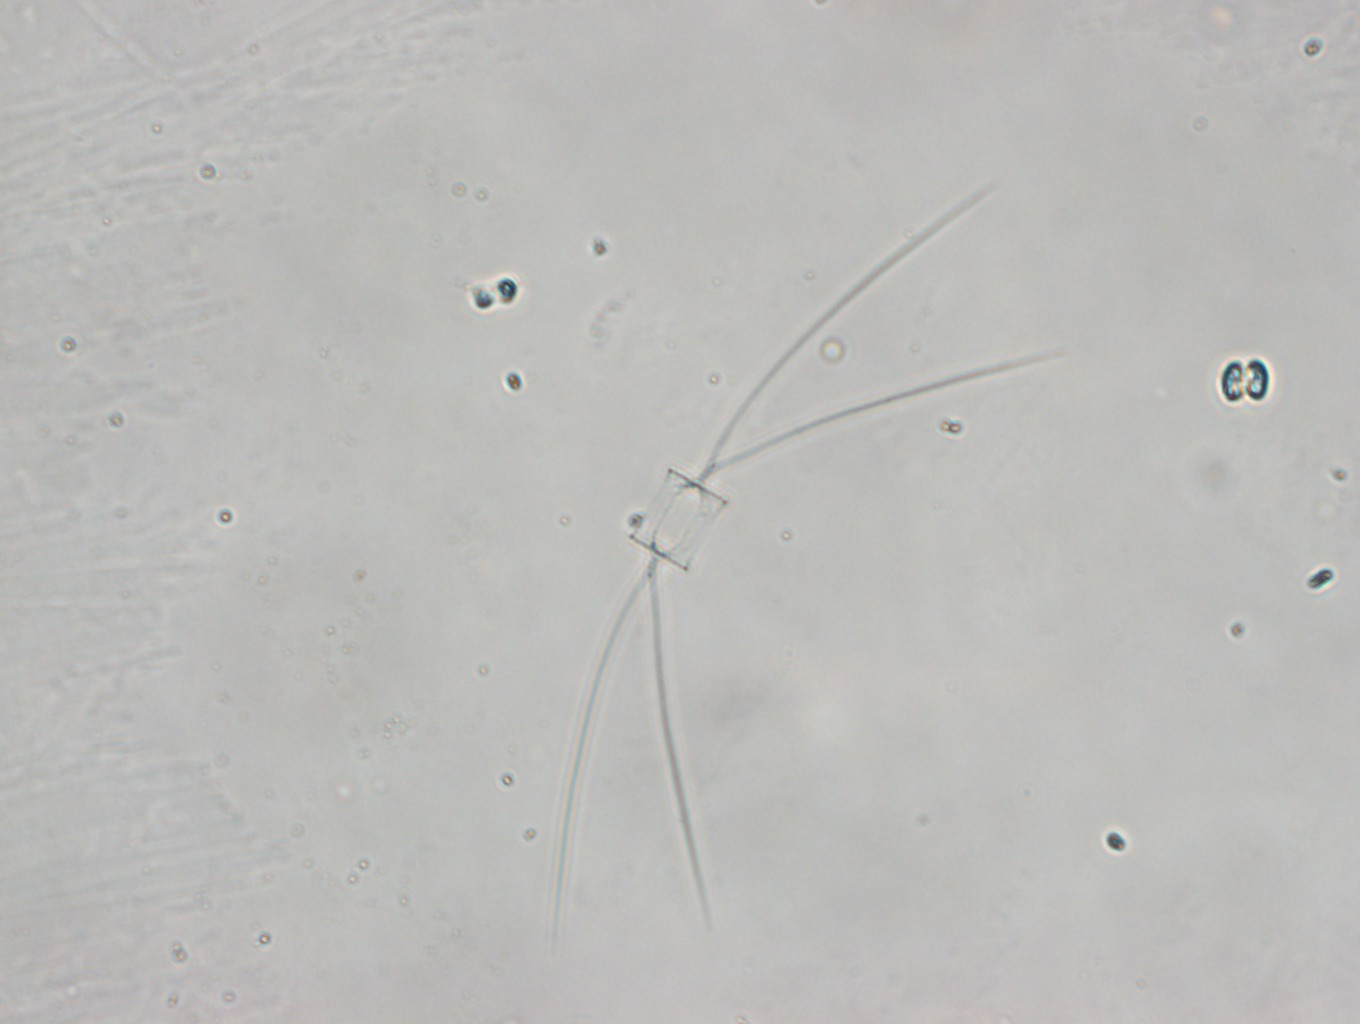chaetoceros: (556, 173, 1039, 953)
